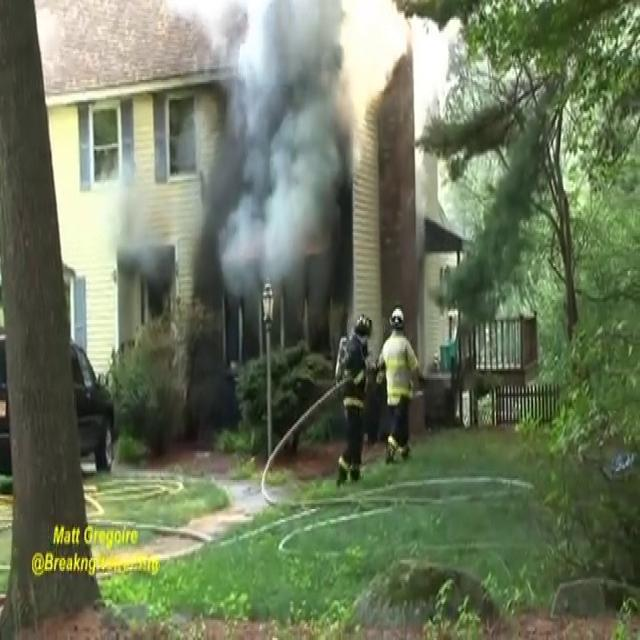Smoke: (178, 0, 418, 331)
